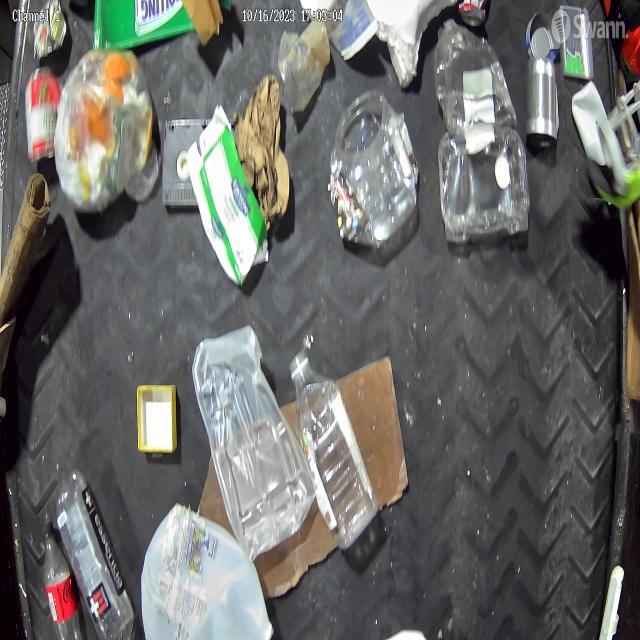can: (24, 64, 60, 165), (524, 58, 558, 148), (525, 9, 561, 60)
milk_jug: (139, 492, 273, 640)
plastic_bottle: (288, 341, 378, 550), (332, 88, 418, 245), (58, 468, 136, 640), (438, 126, 532, 245), (432, 18, 518, 136), (44, 514, 84, 638)
